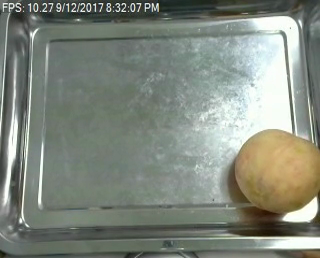Peach: (233, 127, 319, 214)
